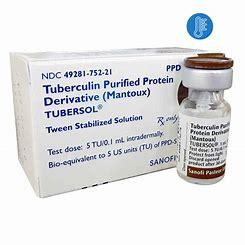Syringe: (176, 42, 232, 188)
